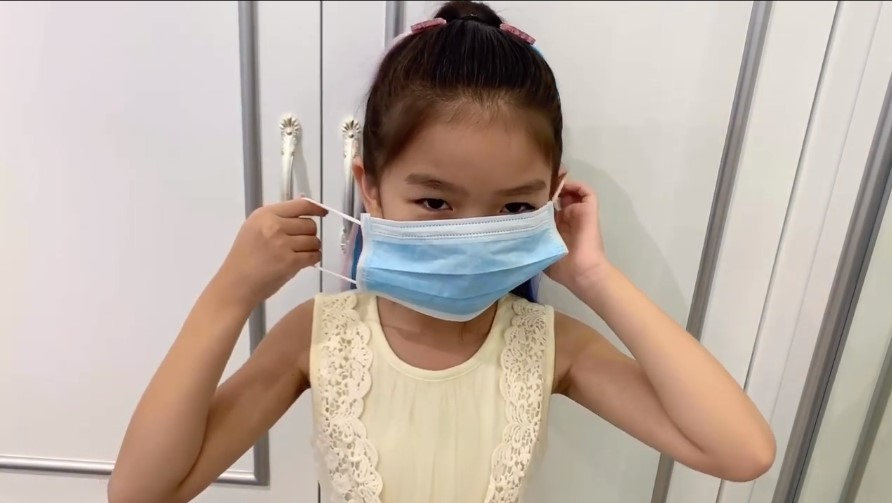face_with_mask: (317, 11, 583, 325)
